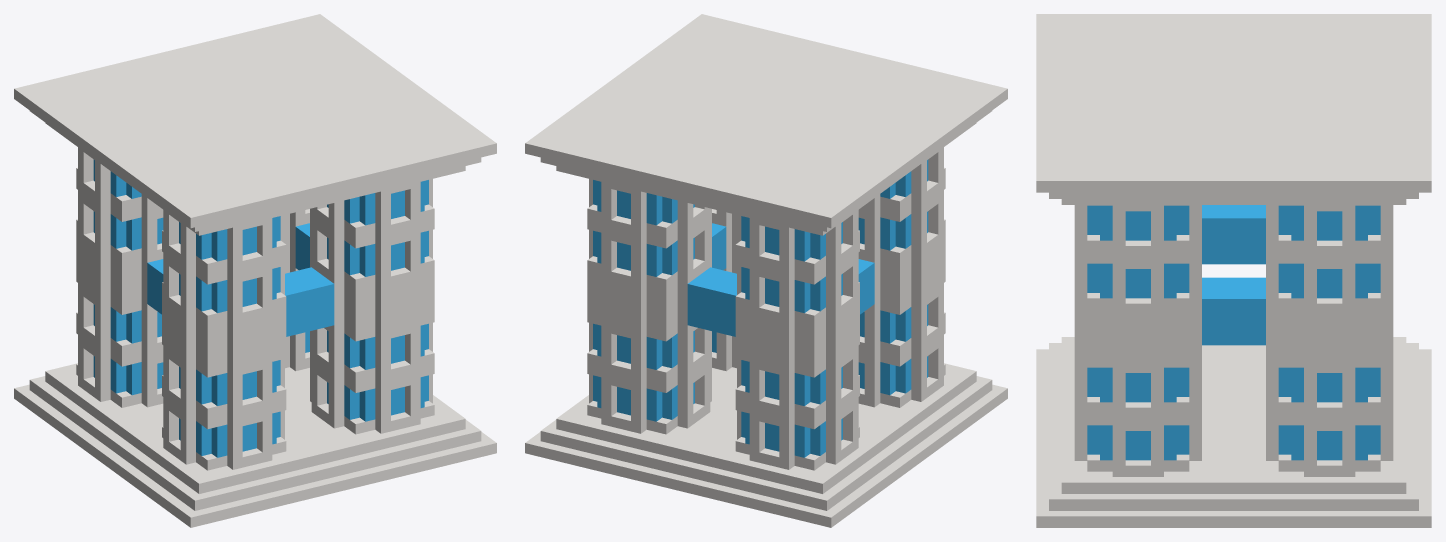
File: TwentySixModel.fbx
The picture shows the model from 3 angles, left to right: view 1: azimuth 30°, elevation 25°; view 2: azimuth 150°, elevation 25°; view 3: azimuth 270°, elevation 25°; orthographic projection. The views are drawn at different scales.
Parts seen in each view (by area): view 1: Matrix_1; view 2: Matrix_1; view 3: Matrix_1.
Boxes of the visible parts, x1,y1,x2,y2 form: Matrix_1: (14,14,496,527); Matrix_1: (525,14,1007,527); Matrix_1: (1036,14,1431,527).
Size of the model in its own units: 31 by 30 by 31.
Materials: 1 (1 with a texture image).
